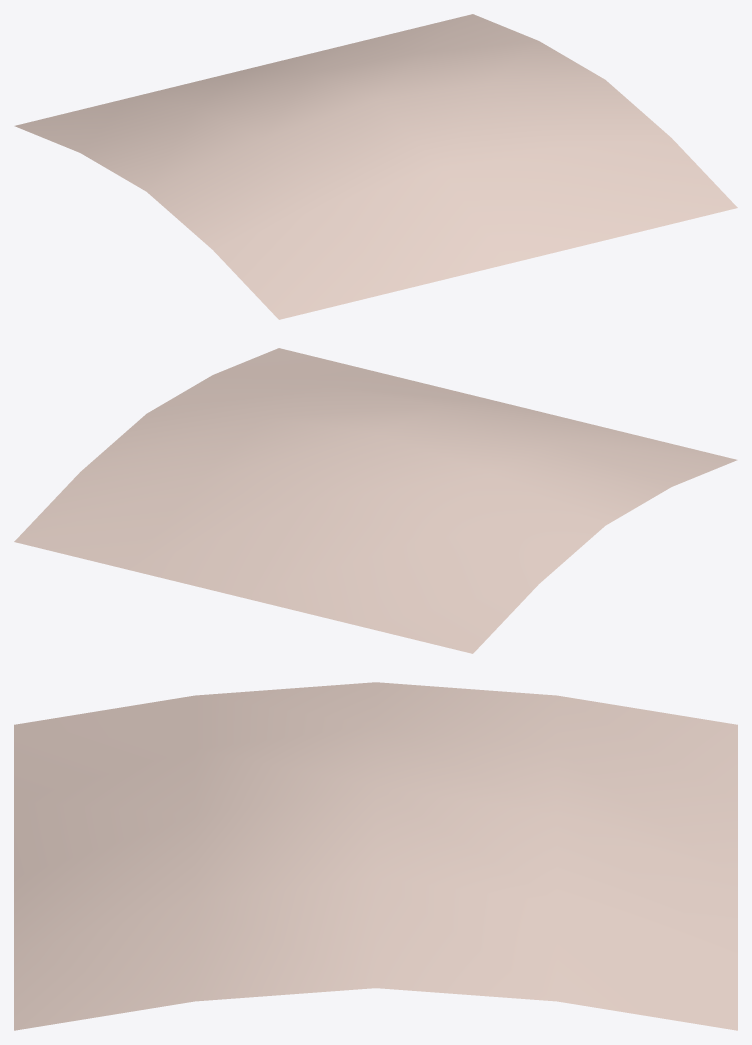
The model's file is Ground.fbx.
3 renders of one model, top to bottom at view 1: azimuth 30°, elevation 25°; view 2: azimuth 150°, elevation 25°; view 3: azimuth 270°, elevation 25°, orthographic. The views are drawn at different scales.
Visible parts, largest first — view 1: Plane; view 2: Plane; view 3: Plane.
Part boxes in pixels (x1,y1,x2,y2): Plane: (14,14,737,319); Plane: (14,348,737,653); Plane: (14,682,737,1030).
Bounding box in the file's own units: 2 × 2 × 0.2761.
